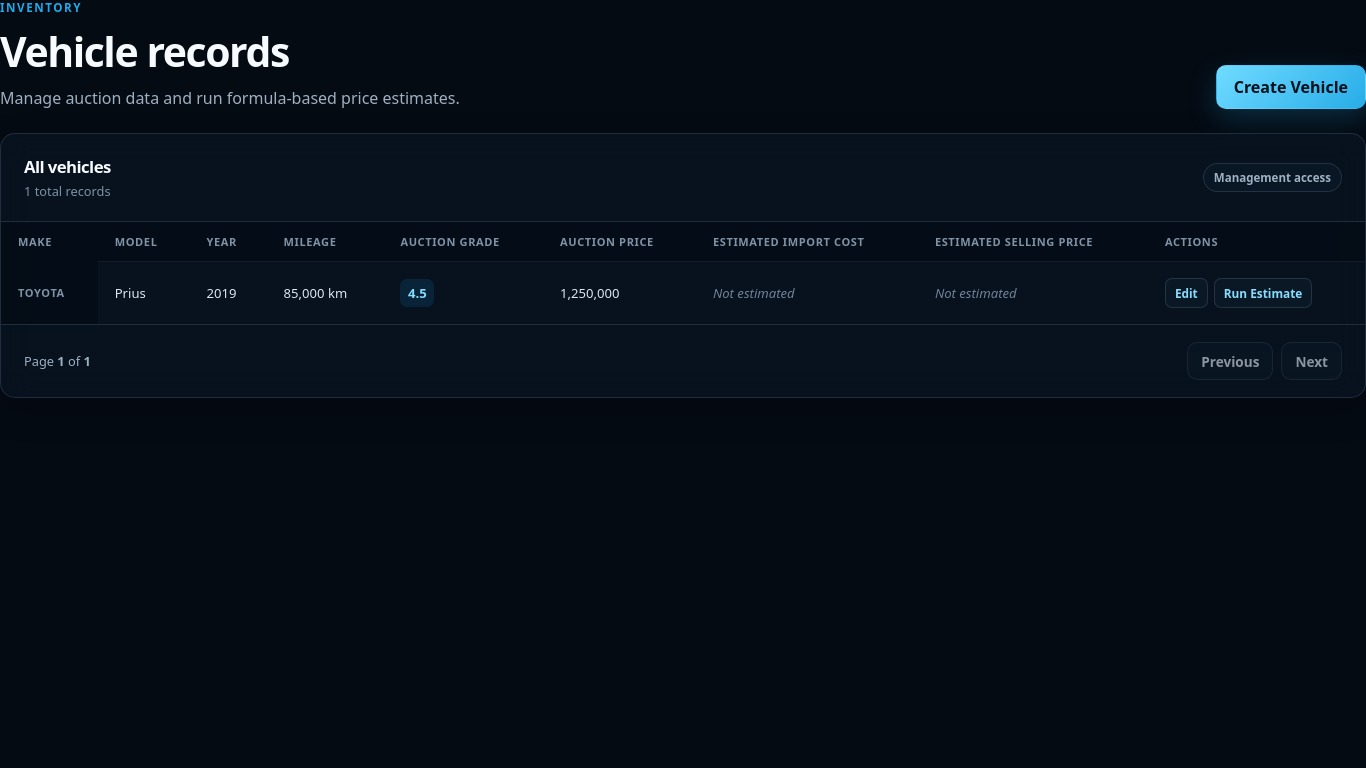
Test: VehiclesPage › opens the create modal and completes a successful create
Expected: the column heading "Toyota" is shown, [1,262,98,324]
Click the button "Create Vehicle": (1291, 87) [1216,65,1365,109]
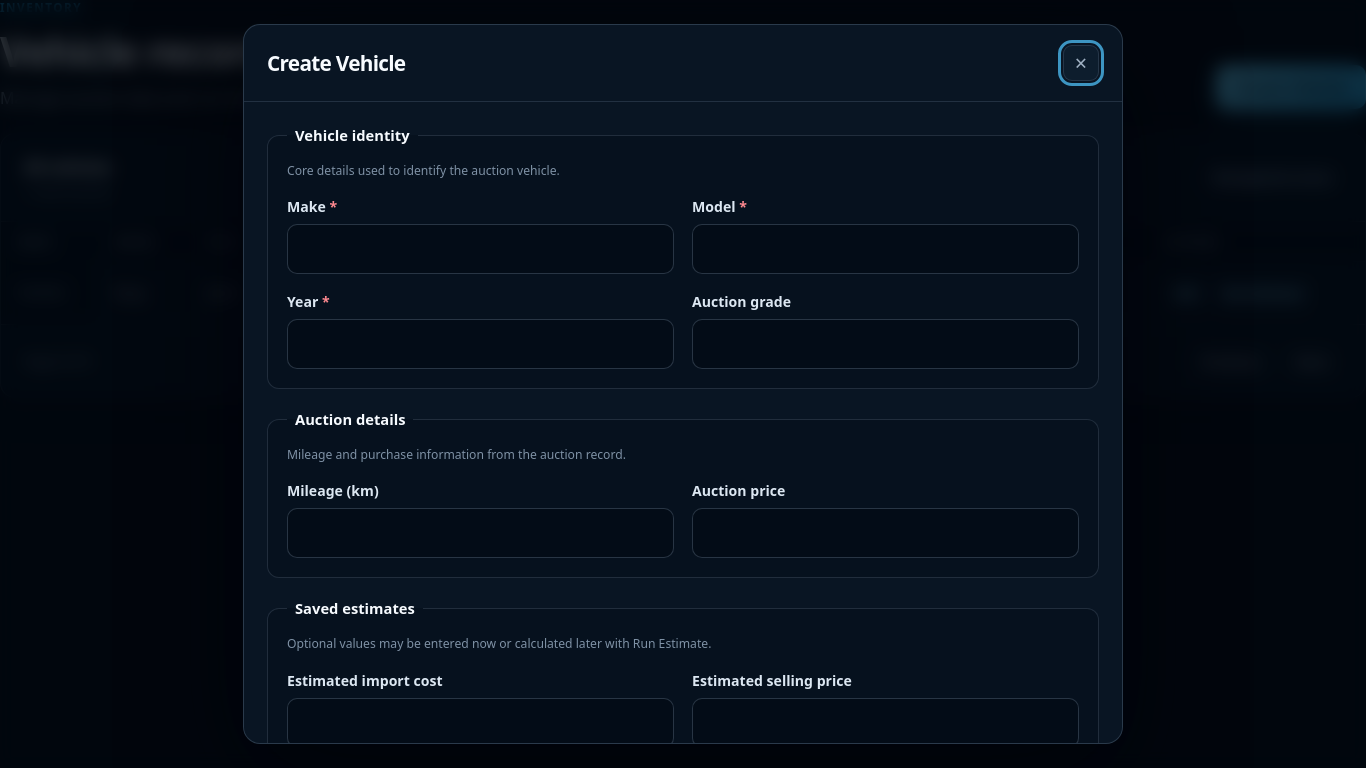
In the field labelled "Make *": (480, 249) [287,224,674,274], type "Honda"
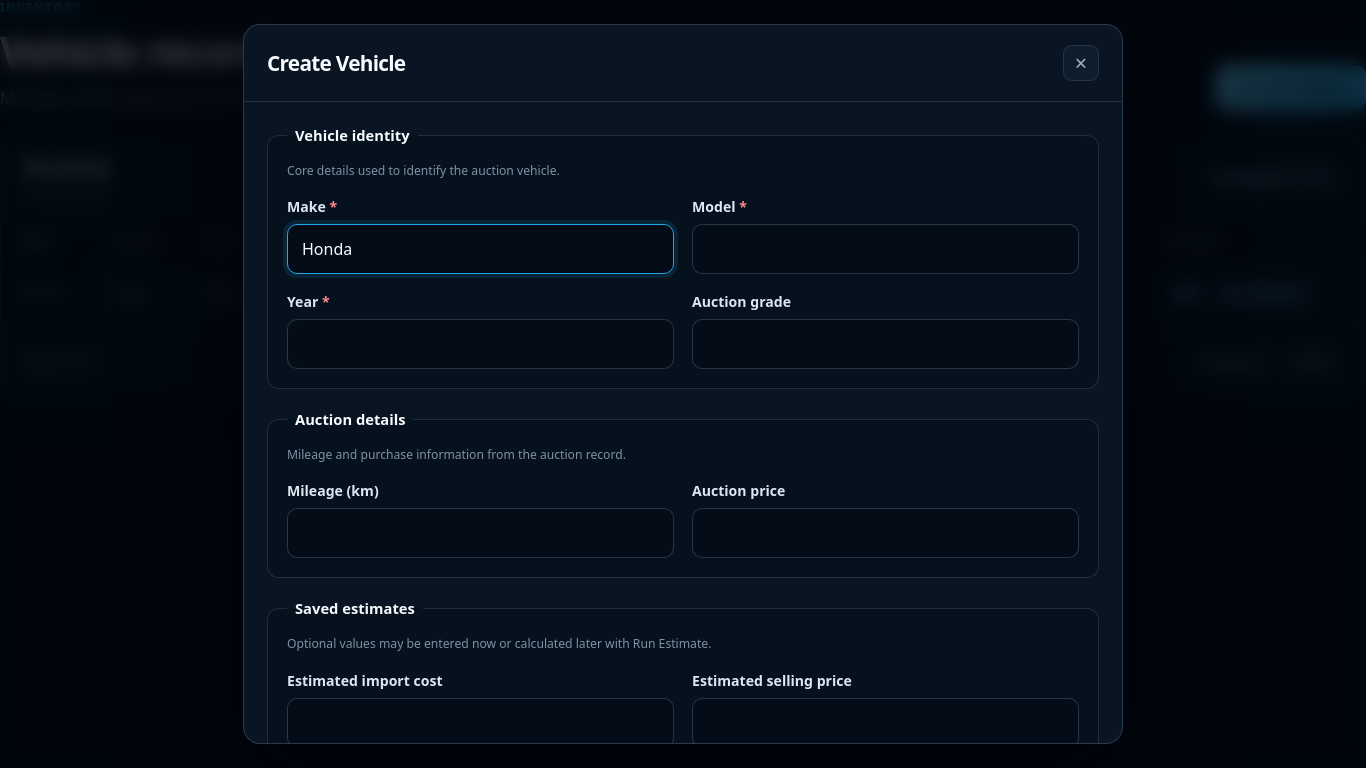
In the field labelled "Model *": (886, 249) [692,224,1079,274], type "Vezel"
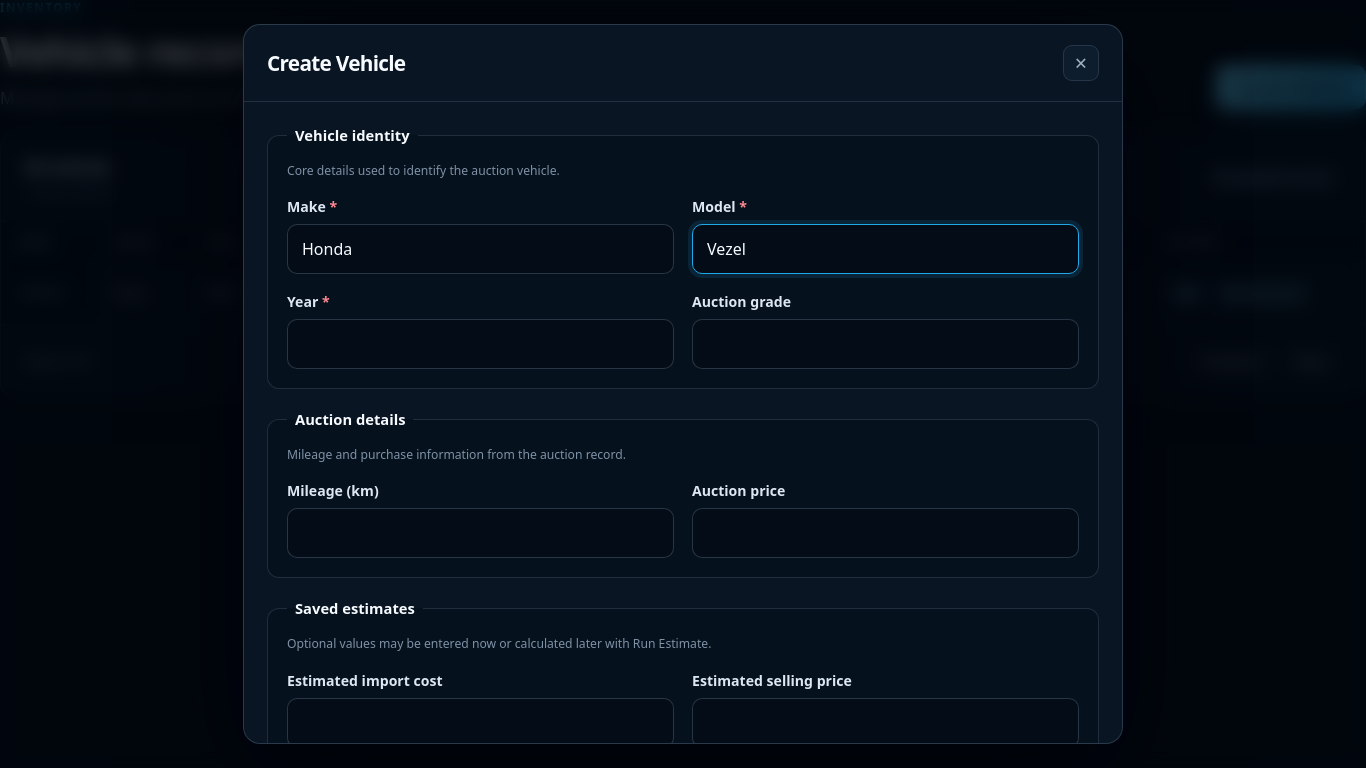
In the number field labelled "Year *": (480, 344) [287,319,674,369], type "2021"
(page scrolled)
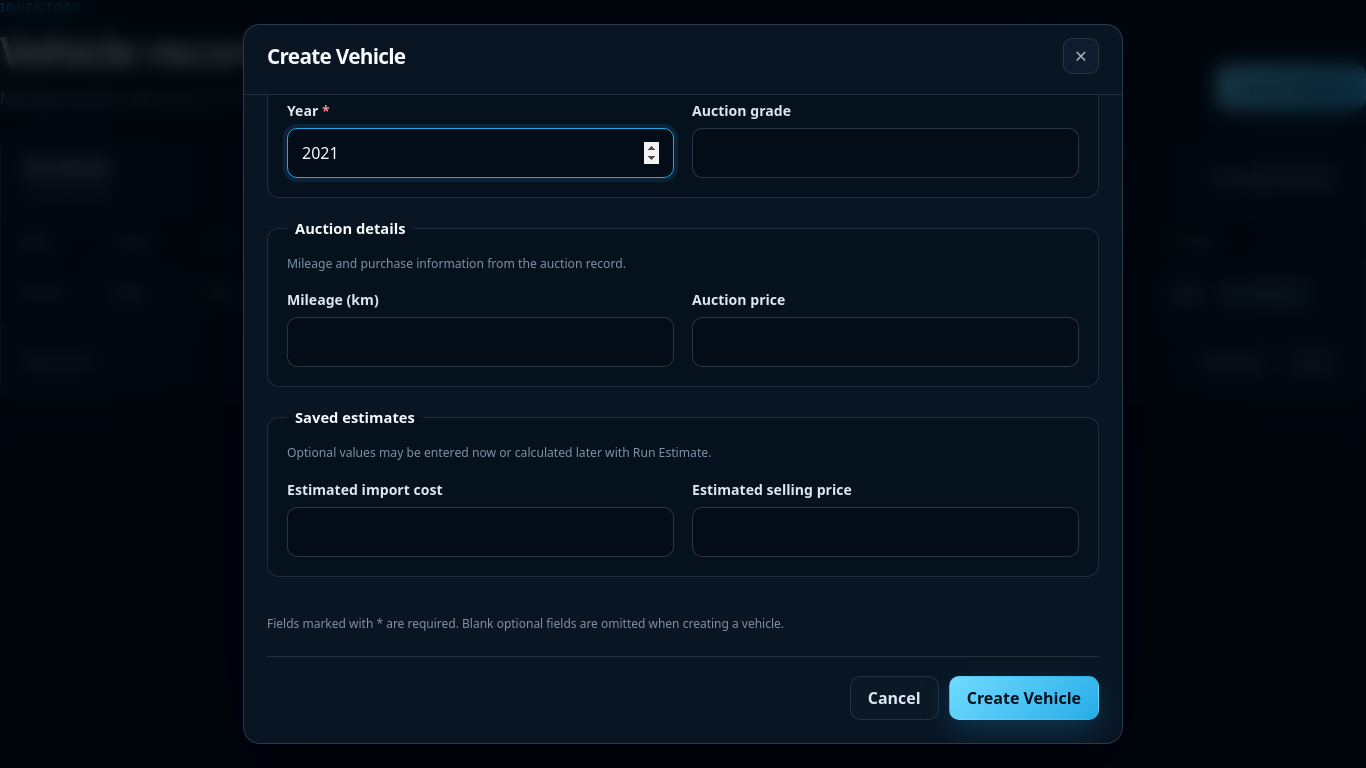
Click the button "Create Vehicle": (1024, 698) [949,676,1099,720]
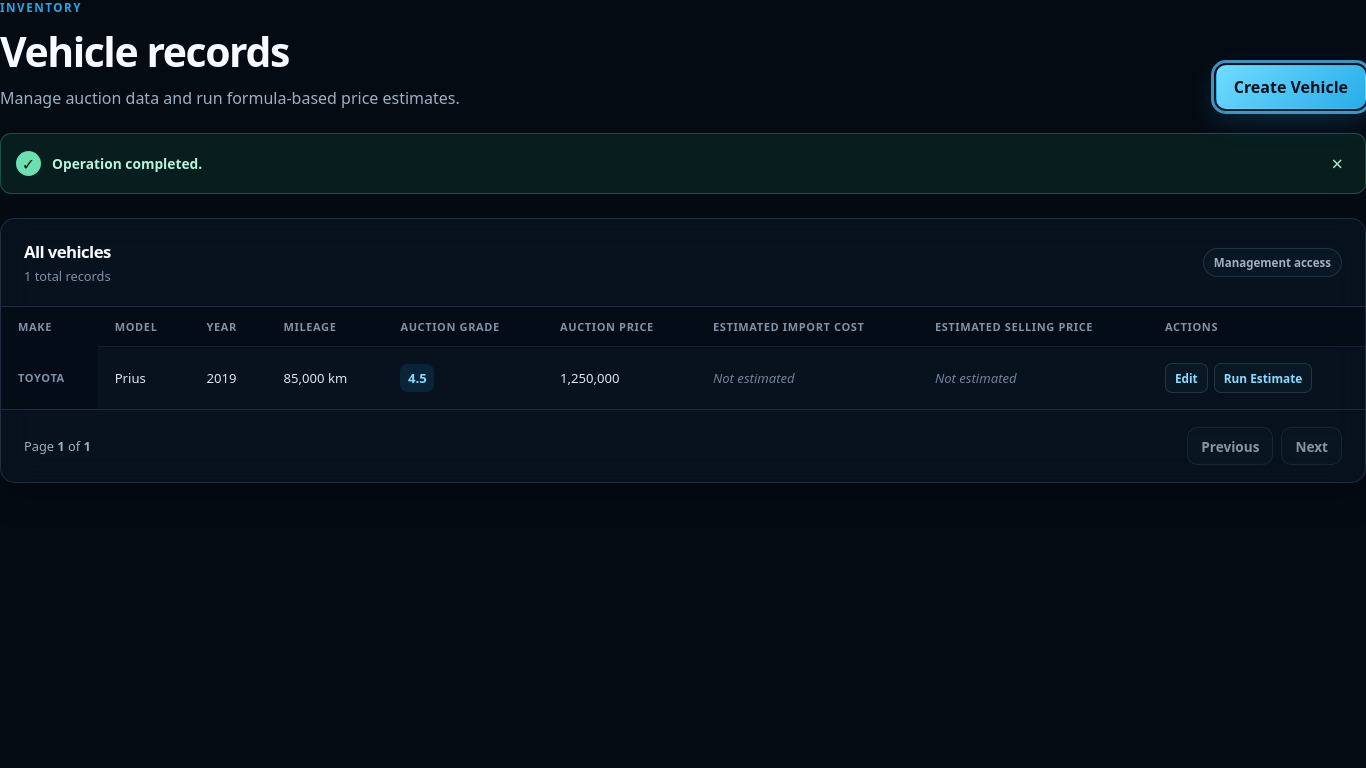
Now the message shows "Operation completed.", box [52,154,202,173]
